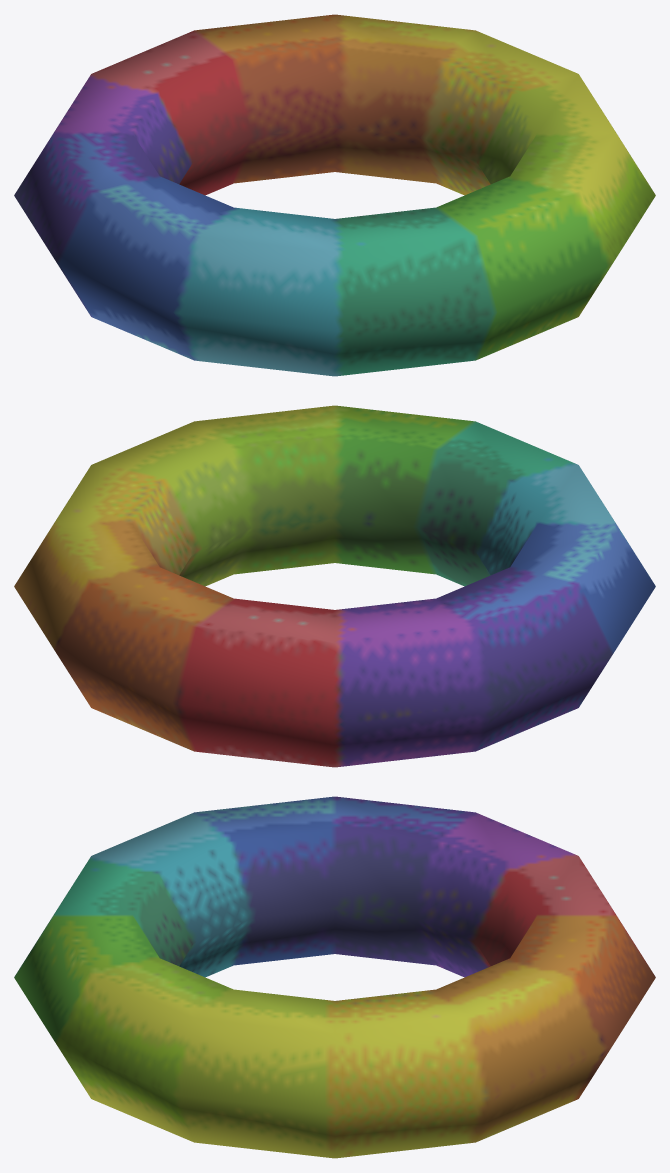
The model's file is hbxz_wj016_01.FBX.
The picture shows the model from 3 angles, top to bottom: view 1: azimuth 30°, elevation 25°; view 2: azimuth 150°, elevation 25°; view 3: azimuth 270°, elevation 25°; orthographic projection.
Parts seen in each view (by area): view 1: hbxz_wj016_01; view 2: hbxz_wj016_01; view 3: hbxz_wj016_01.
Part boxes in pixels (x1=…): hbxz_wj016_01: x1=14, y1=14, x2=655, y2=376; hbxz_wj016_01: x1=14, y1=405, x2=655, y2=767; hbxz_wj016_01: x1=14, y1=796, x2=655, y2=1158.
Bounding box in the file's own units: 134 × 28.54 × 134.
1 material, 1 textured.
